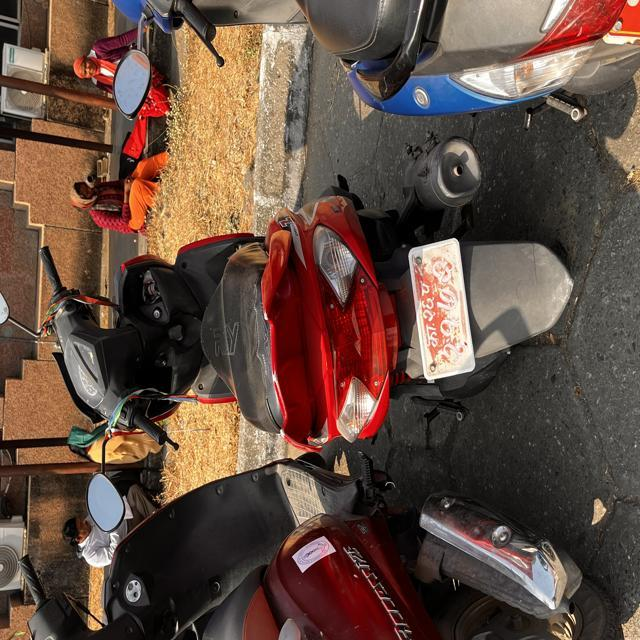license_plate: (405, 230, 483, 386)
